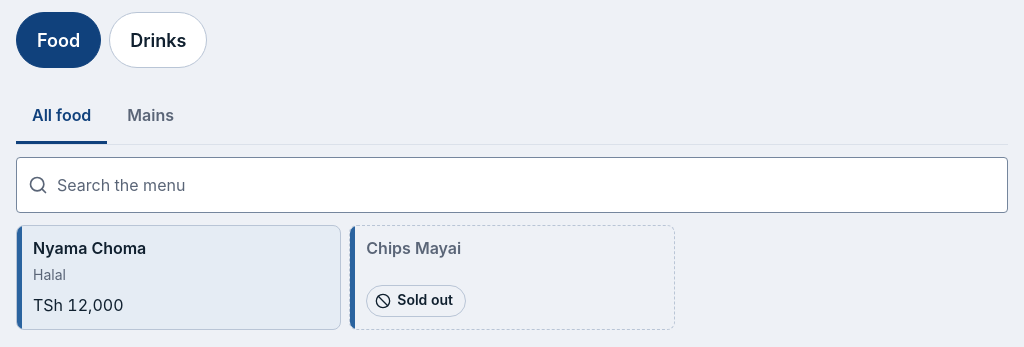
Test: MenuPanel with the Restaurant & Bar module's menu (S16-B4) › puts the groups first, the group's categories second, and staff's tags on the tiles
Expected: the button with test id "menu-Nyama Choma" shows "Halal", [16, 225, 341, 330]
Click the tab "Drinks" at [158, 40], box [109, 12, 207, 68]
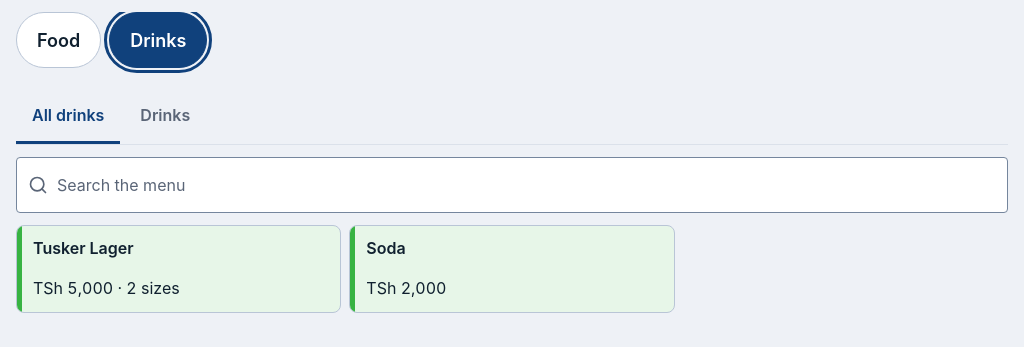
Now the button with test id "menu-Tusker Lager" shows "TSh 5,000 · 2 sizes", box [16, 225, 341, 313]
